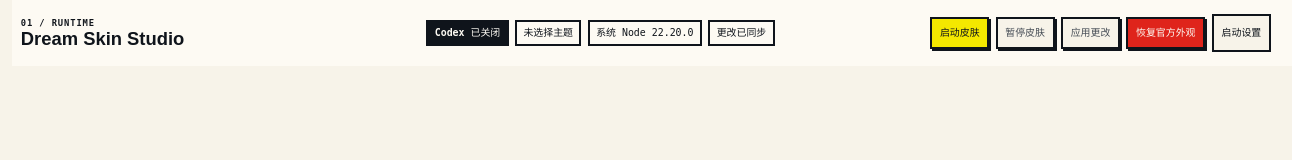
Scenario: RuntimeBar › expands startup settings below the runtime bar and closes them with Escape
The image size is (1292, 160).
Click the button "启动设置": (1241, 33) [1212, 14, 1271, 52]
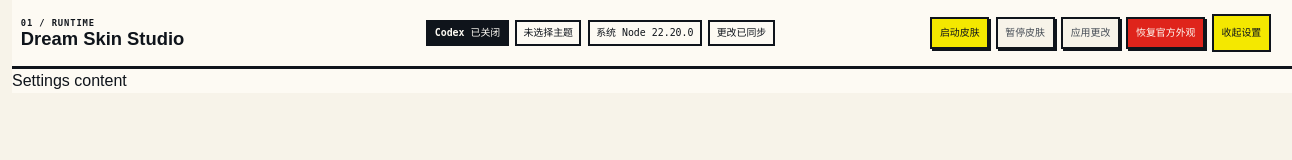
Expected: the button named "启动设置" is expanded
Click the button named "启动设置": (1241, 33) [1212, 14, 1271, 52]
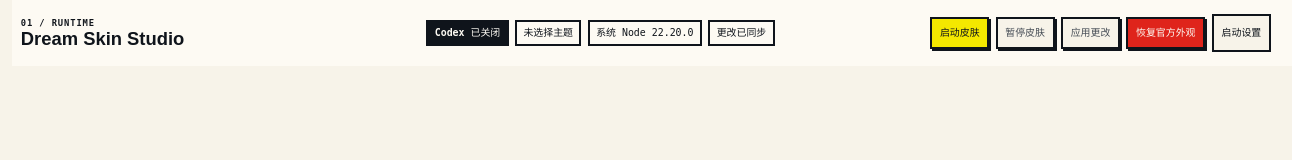
Expected: the element "应用设置" is gone
Click the button "启动设置": (1241, 33) [1212, 14, 1271, 52]
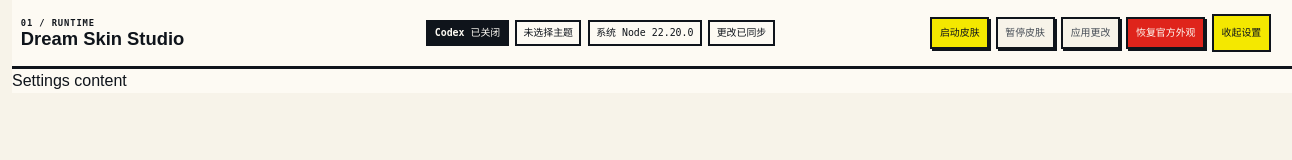
Expected: the element named "应用设置" is shown, [12, 66, 1291, 93]
Press Escape
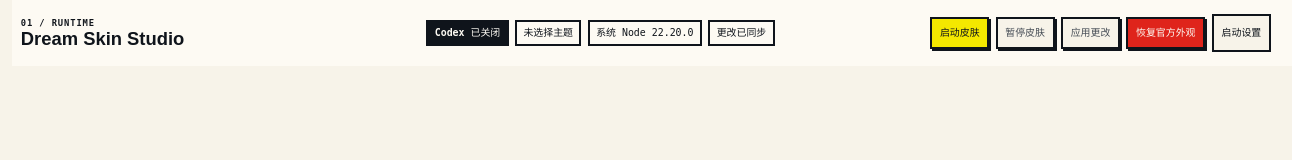
Expected: the element "应用设置" is gone
Expected: the button "启动设置" is collapsed, [1212, 14, 1271, 52]
